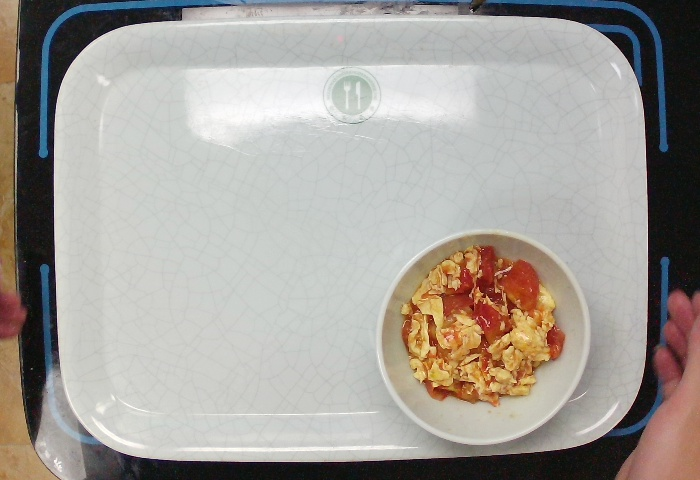JYsf-Fan_Wan: (372, 225, 597, 449)
